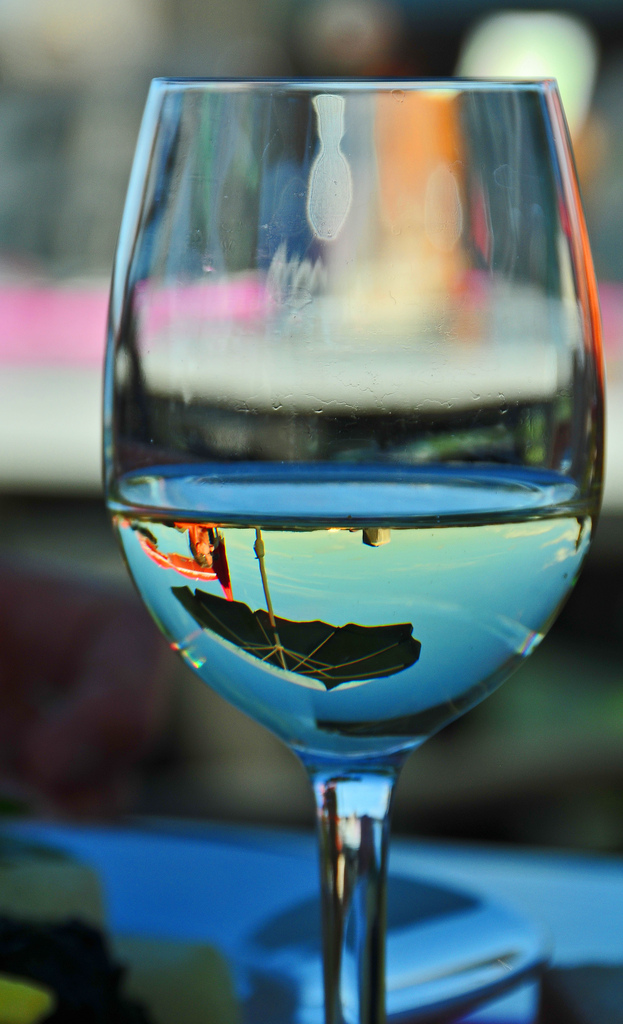glass of water: (101, 78, 598, 1024)
